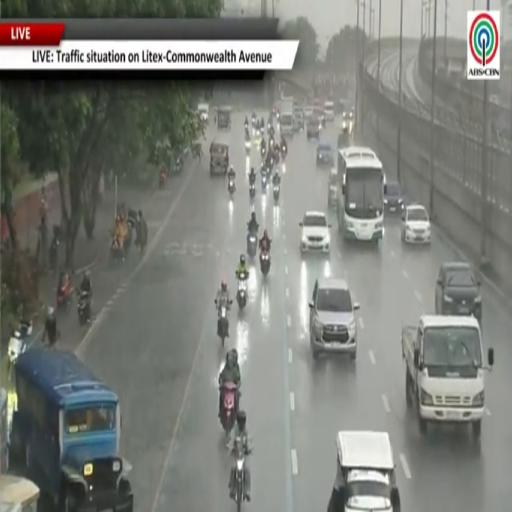bus: (9, 348, 133, 511), (337, 147, 386, 243), (0, 475, 40, 511)
car: (328, 431, 400, 511), (309, 278, 359, 360), (435, 262, 482, 323), (300, 212, 330, 253), (401, 204, 431, 244), (384, 181, 404, 214), (316, 141, 334, 167), (328, 168, 338, 206), (306, 116, 320, 139), (198, 102, 209, 124), (304, 105, 314, 119)
motorcycle: (220, 381, 238, 444), (8, 322, 32, 369), (233, 438, 245, 511), (57, 277, 73, 308), (218, 304, 229, 346), (77, 291, 90, 326), (49, 226, 59, 271), (237, 274, 248, 310), (110, 236, 124, 262), (260, 250, 270, 277), (247, 233, 257, 258), (159, 170, 167, 188), (228, 180, 235, 197), (273, 184, 279, 203), (274, 147, 280, 165), (249, 183, 255, 199), (262, 173, 267, 191), (269, 156, 275, 170), (281, 144, 287, 158), (261, 144, 266, 158), (245, 140, 250, 154), (269, 137, 274, 151), (267, 122, 272, 132), (245, 121, 248, 131)
truck: (402, 315, 494, 439), (280, 98, 293, 136)
